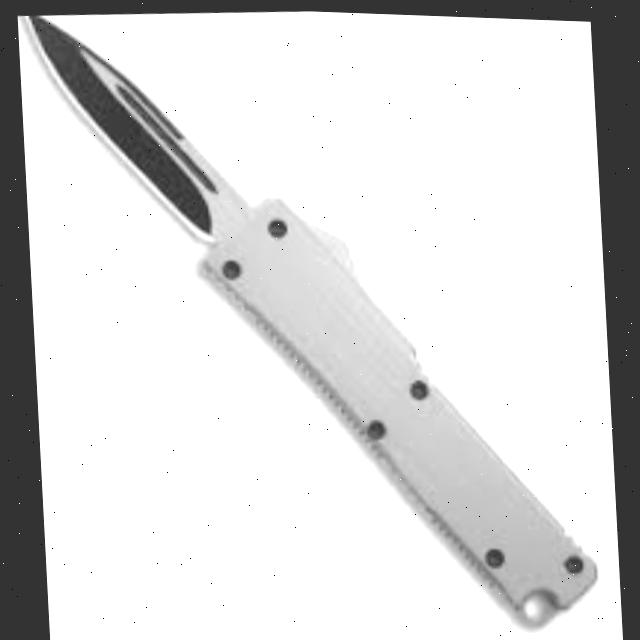Knife: (16, 0, 598, 640)
